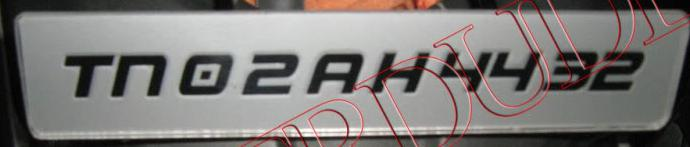0: (177, 51, 233, 97)
2: (240, 49, 300, 98), (589, 48, 641, 93)
3: (535, 48, 597, 89)
4: (490, 46, 540, 93), (439, 48, 489, 93)
A: (305, 48, 362, 93)
H: (369, 49, 429, 94)
N: (106, 50, 170, 98)
T: (58, 50, 114, 101)
